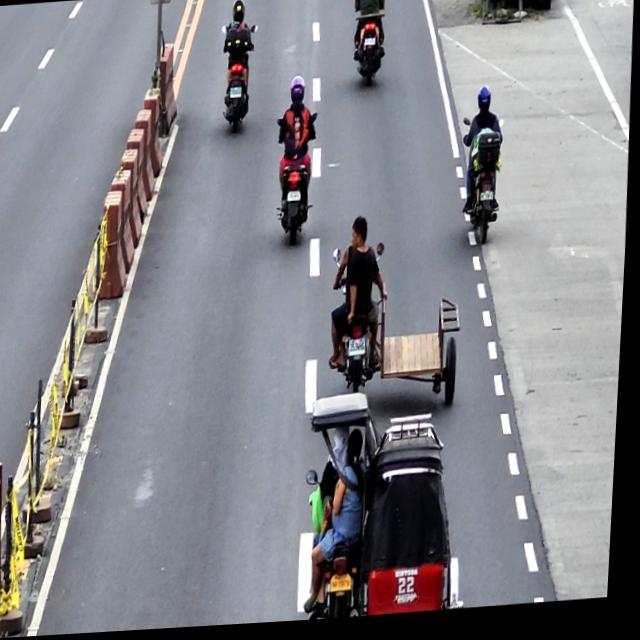License-Plate: (334, 577, 358, 598), (352, 343, 371, 361), (288, 192, 303, 207), (482, 193, 496, 208), (230, 88, 243, 102), (364, 40, 377, 51)
Motorcycle: (271, 112, 322, 249), (459, 114, 507, 254), (217, 21, 261, 139), (351, 0, 388, 95)
Tricycle: (303, 390, 478, 625), (328, 243, 469, 425)
